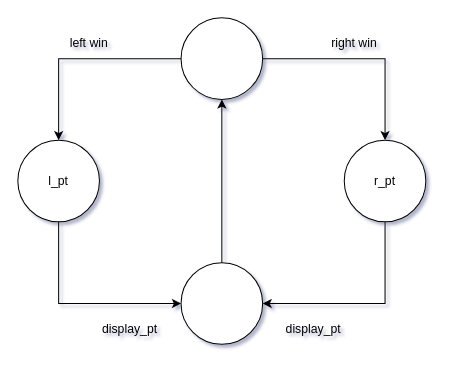
The diagram is 450 pixels wide and 368 high, and some of its shapes have lost their labels. Here are the shapes that lost their labels. From the top down, the centre of each, then its label:
At (221,58): "moving".
At (221,303): "idle".
